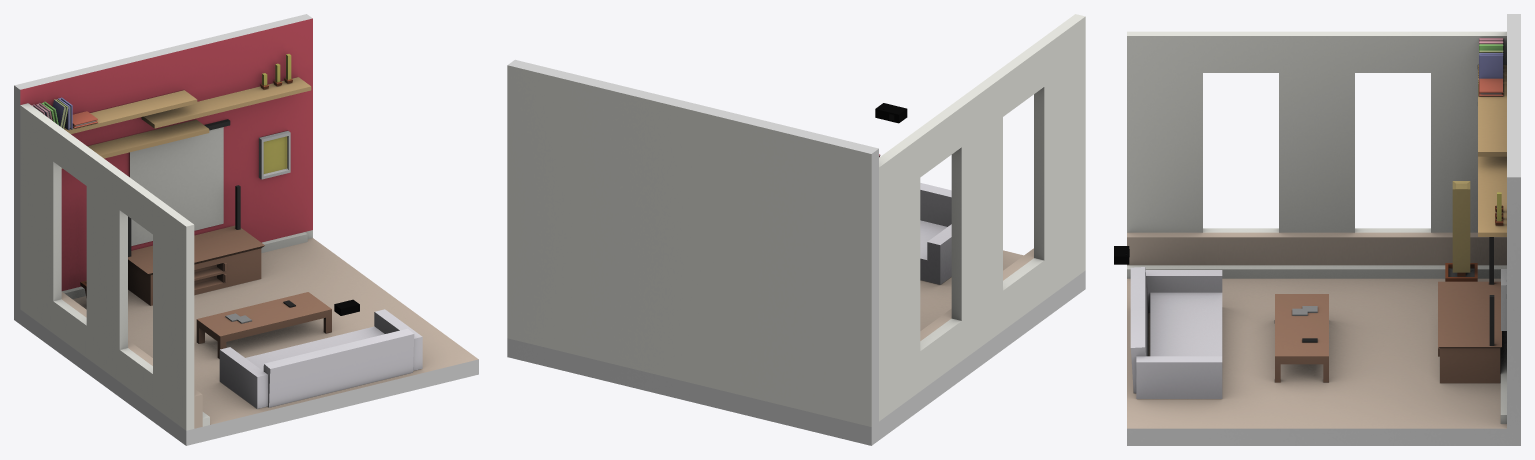
The model's file is room.obj.
3 views of the same model, side by side, from view 1: azimuth 30°, elevation 25°; view 2: azimuth 150°, elevation 25°; view 3: azimuth 270°, elevation 25° (orthographic). The views are drawn at different scales.
Visible parts, largest first — view 1: Cube; view 2: Cube; view 3: Cube.
Boxes of the visible parts, x1,y1,x2,y2 form: Cube: (14,14,478,445); Cube: (507,14,1085,445); Cube: (1114,14,1520,445).
Size of the model in its own units: 3.75 by 2.87 by 3.94.
